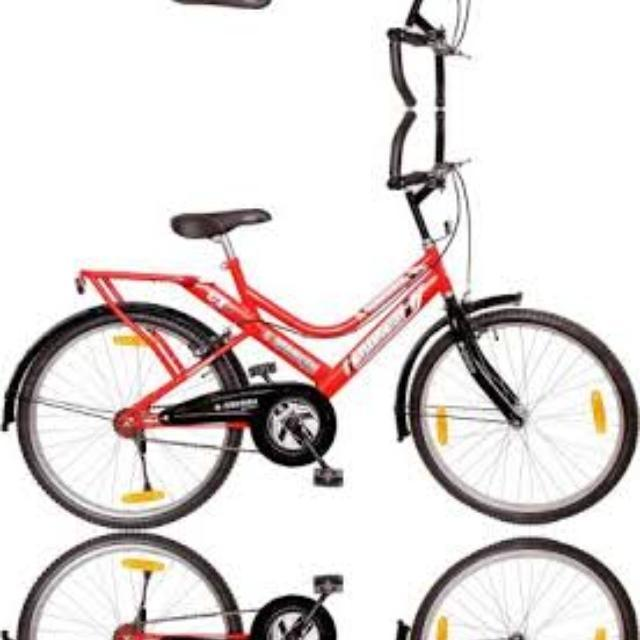obstacle: (5, 110, 640, 530), (4, 530, 639, 640), (4, 0, 639, 106)
